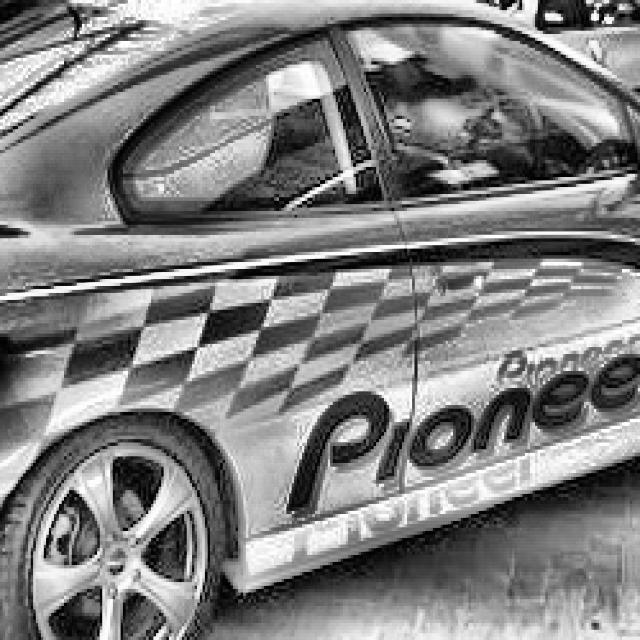light_vehicle: (0, 0, 640, 640), (253, 0, 640, 143)
